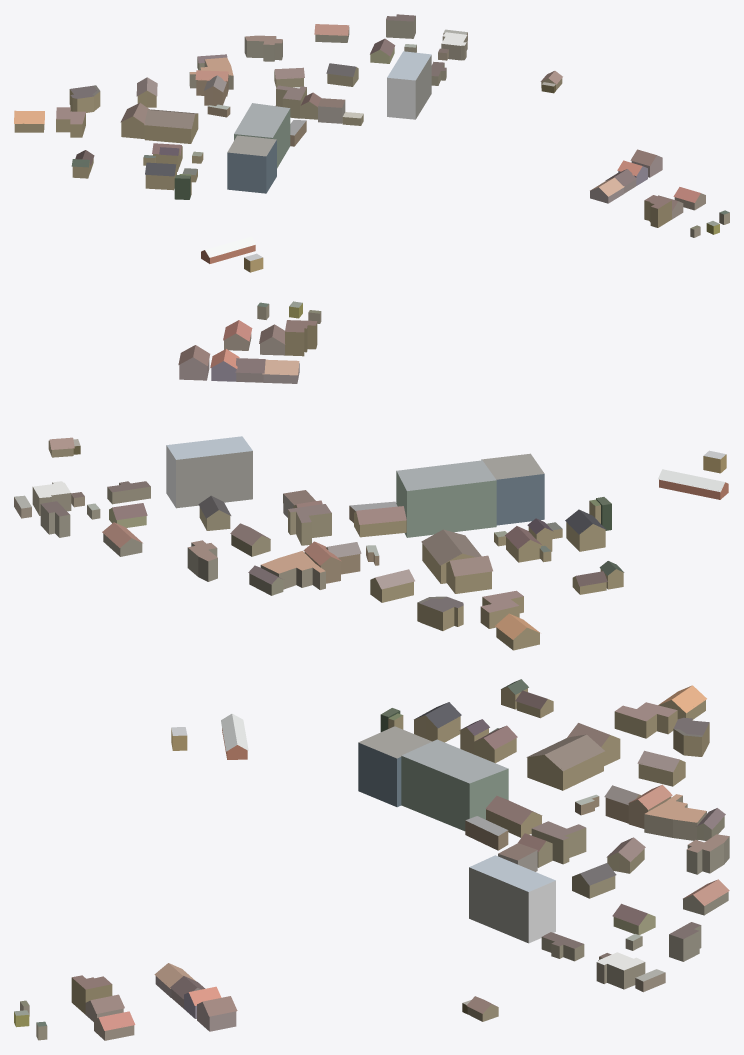
3 renders of one model, top to bottom at view 1: azimuth 30°, elevation 25°; view 2: azimuth 150°, elevation 25°; view 3: azimuth 270°, elevation 25°, orthographic. The views are drawn at different scales.
Parts seen in each view (by area): view 1: tuile; view 2: tuile; view 3: tuile.
Boxes of the visible parts, bbox=[...] form: tuile: bbox=[14, 14, 729, 272]; tuile: bbox=[14, 301, 728, 650]; tuile: bbox=[14, 679, 729, 1040].
Size of the model in its own units: 248 by 30.49 by 245.
